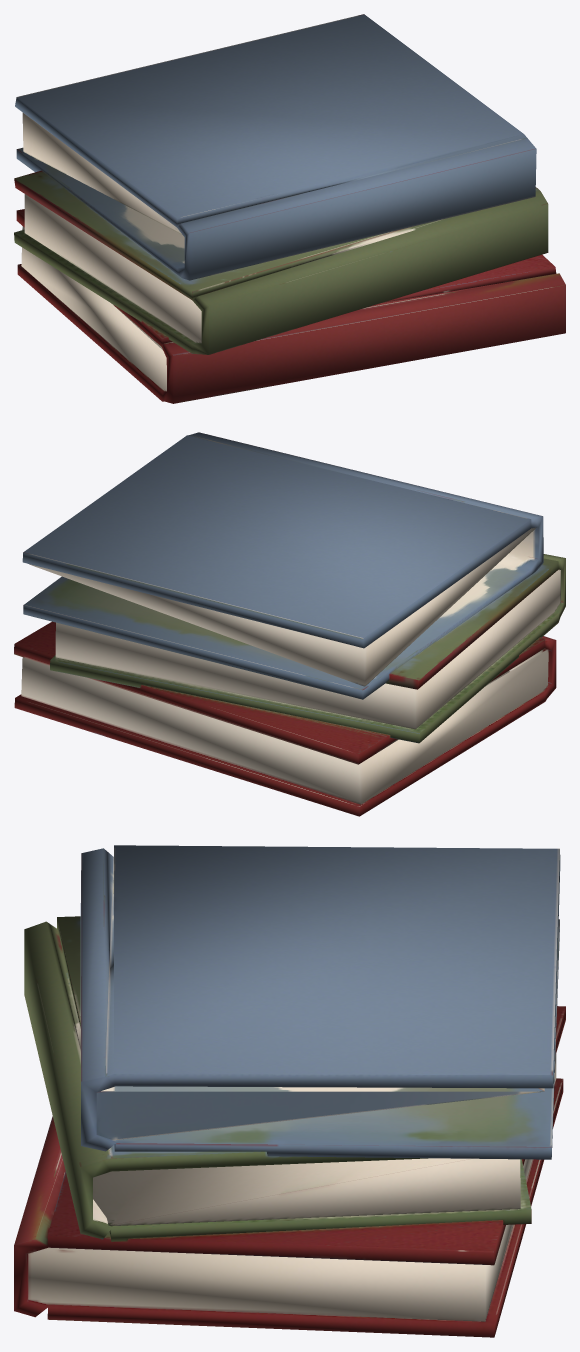
The model's file is book_stack.glb.
3 renders of one model, top to bottom at view 1: azimuth 30°, elevation 25°; view 2: azimuth 150°, elevation 25°; view 3: azimuth 270°, elevation 25°, orthographic. The views are drawn at different scales.
Bounding box in the file's own units: 0.9536 × 0.4048 × 0.8325.
1 material, 1 textured.
